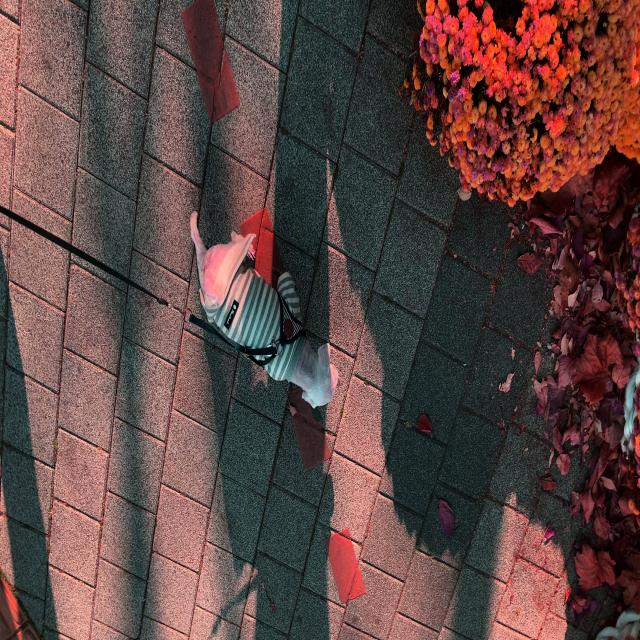Dog: (297, 226, 453, 434)
